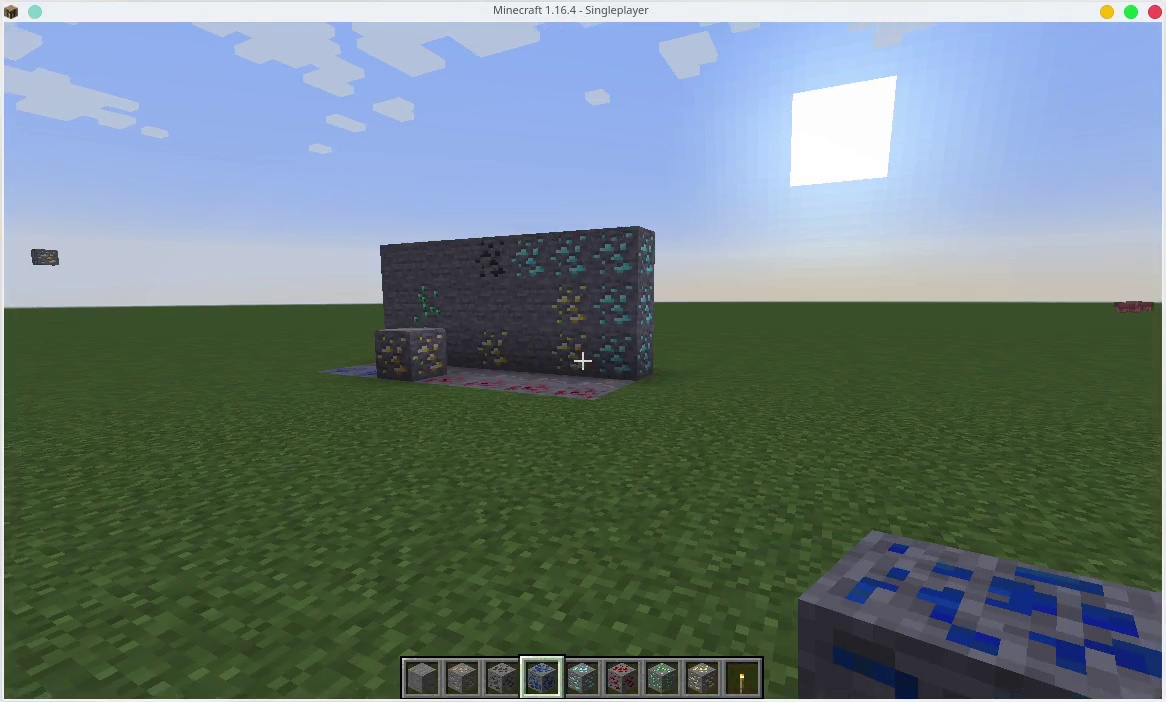gold: (374, 329, 445, 384), (548, 282, 588, 335), (551, 333, 593, 372), (475, 327, 511, 370), (690, 663, 715, 692)
